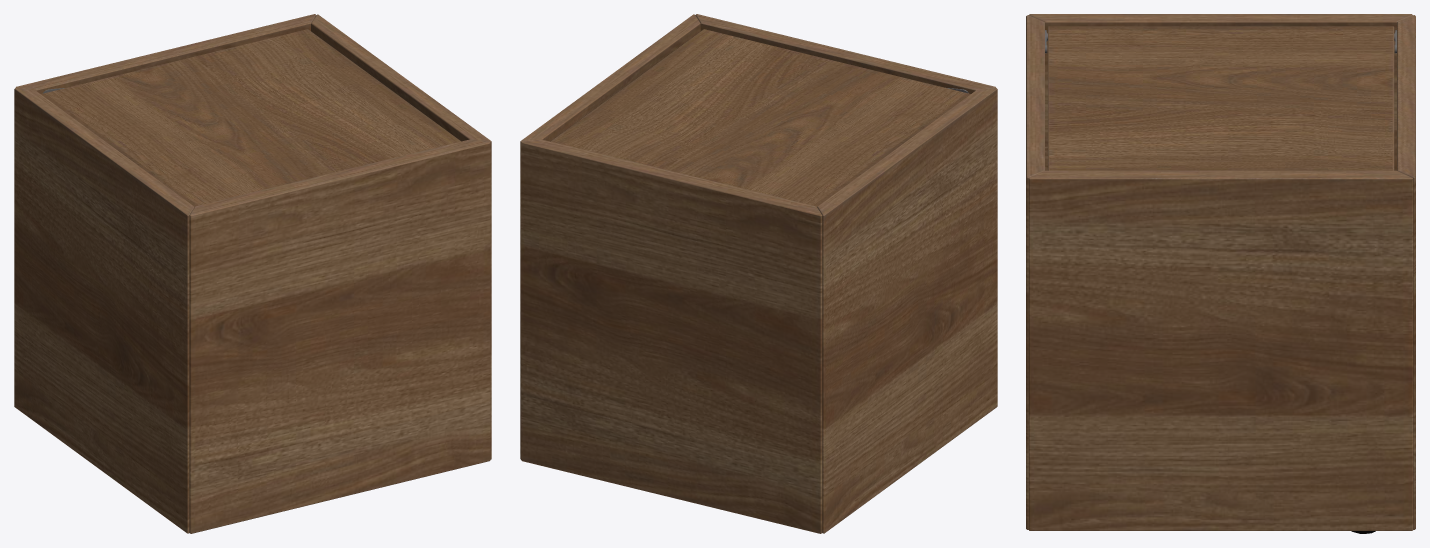
File: LB-LR-WIFI-02.glb
3 renders of one model, left to right at view 1: azimuth 30°, elevation 25°; view 2: azimuth 150°, elevation 25°; view 3: azimuth 270°, elevation 25°, orthographic. The views are drawn at different scales.
Visible parts, largest first — view 1: ASY_ART_60574590_S01_NV01, ASY_LPT01_60574590_S01_NV01; view 2: ASY_ART_60574590_S01_NV01, ASY_LPT01_60574590_S01_NV01; view 3: ASY_ART_60574590_S01_NV01, ASY_LPT01_60574590_S01_NV01.
Part boxes in pixels (x1,y1,x2,y2): ASY_ART_60574590_S01_NV01: (14,14,491,533); ASY_LPT01_60574590_S01_NV01: (41,29,460,206); ASY_ART_60574590_S01_NV01: (520,14,997,533); ASY_LPT01_60574590_S01_NV01: (550,29,970,206); ASY_ART_60574590_S01_NV01: (1026,14,1415,533); ASY_LPT01_60574590_S01_NV01: (1046,26,1395,170).
Size of the model in its own units: 0.35 by 0.3671 by 0.35.
Materials: 2 (2 with a texture image).
